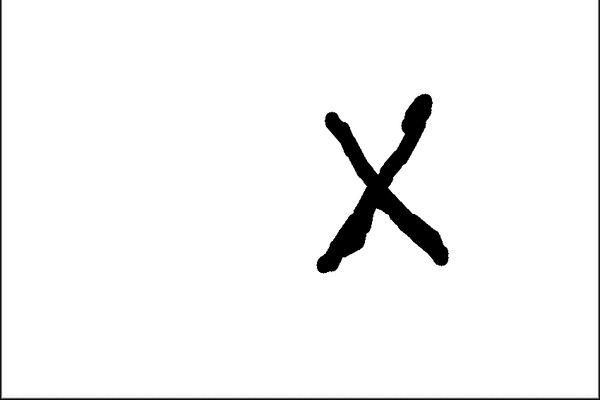X: (302, 83, 487, 282)
